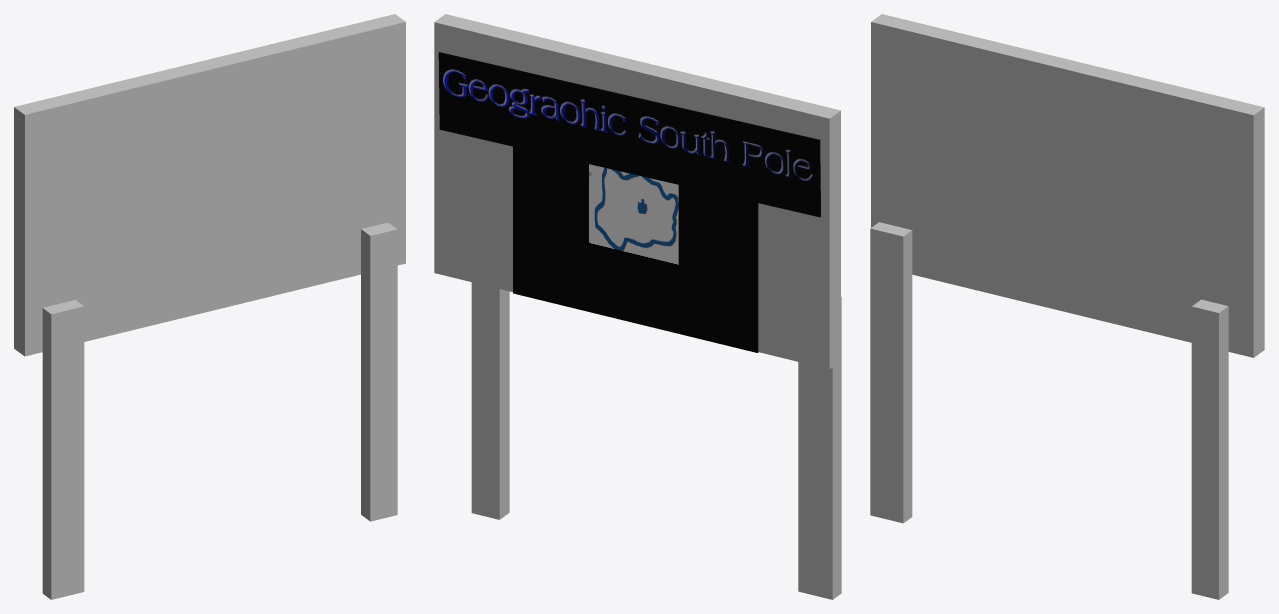
File: South pole board.fbx
3 views of the same model, side by side, from view 1: azimuth 30°, elevation 25°; view 2: azimuth 150°, elevation 25°; view 3: azimuth 330°, elevation 25° (orthographic). The views are drawn at different scales.
Parts seen in each view (by area): view 1: pCube2, pCube1, pasted__pCube1; view 2: pCube2, pCube4, pCube3, pCube1, pasted__pCube1; view 3: pCube2, pCube1, pasted__pCube1.
Part boxes in pixels (x1,y1,x2,y2): pCube2: (14, 14, 405, 356); pCube1: (42, 300, 84, 599); pasted__pCube1: (361, 222, 397, 521); pCube2: (434, 14, 840, 369); pCube4: (513, 146, 758, 352); pCube3: (438, 52, 820, 217); pCube1: (798, 296, 841, 599); pasted__pCube1: (471, 282, 509, 519); pCube2: (871, 14, 1264, 357); pCube1: (870, 222, 912, 523); pasted__pCube1: (1191, 299, 1228, 599).
Bounding box in the file's own units: 4.24 × 5.08 × 0.5266.
